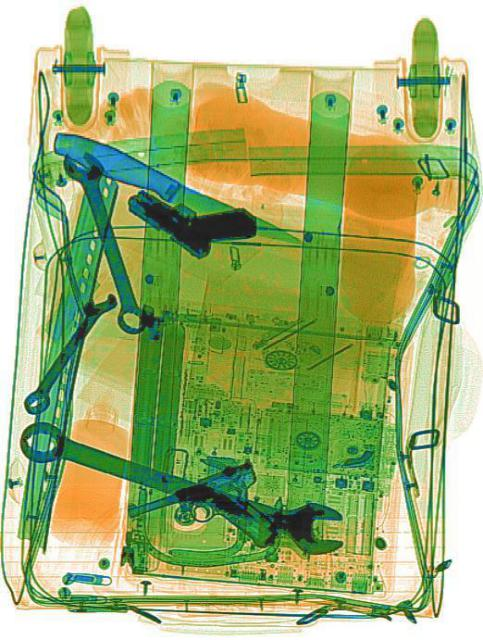Gun: (125, 455, 278, 591), (122, 146, 261, 282)
Knife: (49, 122, 304, 255)
Wrench: (12, 408, 347, 560), (58, 139, 151, 339), (14, 280, 117, 420)
